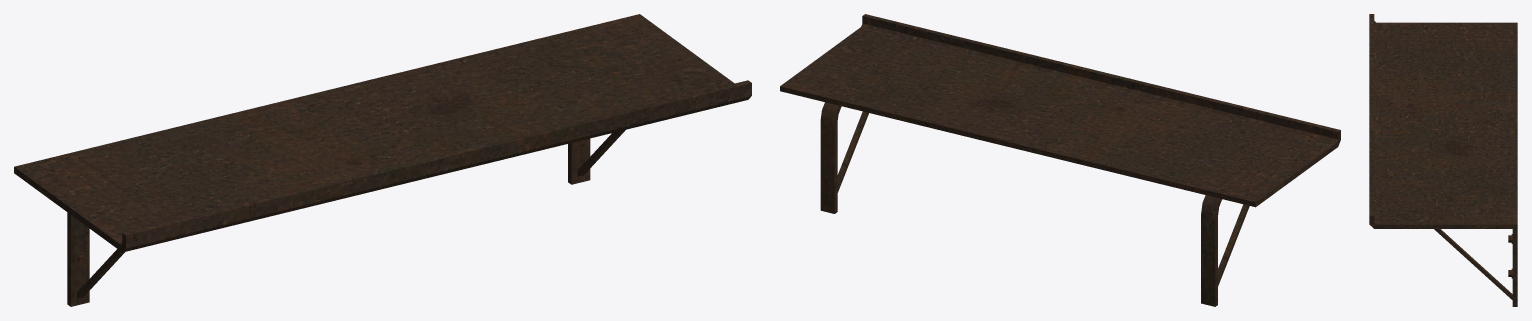
The model's file is hanging_shelf_mx_1.glb.
3 renders of one model, left to right at view 1: azimuth 30°, elevation 25°; view 2: azimuth 150°, elevation 25°; view 3: azimuth 270°, elevation 25°, orthographic. The views are drawn at different scales.
Parts seen in each view (by area): view 1: hanging_shelf_mx_1; view 2: hanging_shelf_mx_1; view 3: hanging_shelf_mx_1.
Boxes of the visible parts, <box> form: hanging_shelf_mx_1: <box>14,14,751,306</box>; hanging_shelf_mx_1: <box>780,14,1340,306</box>; hanging_shelf_mx_1: <box>1369,14,1517,306</box>.
Size of the model in its own units: 1 by 0.25 by 0.31.
Materials: 1 (1 with a texture image).
